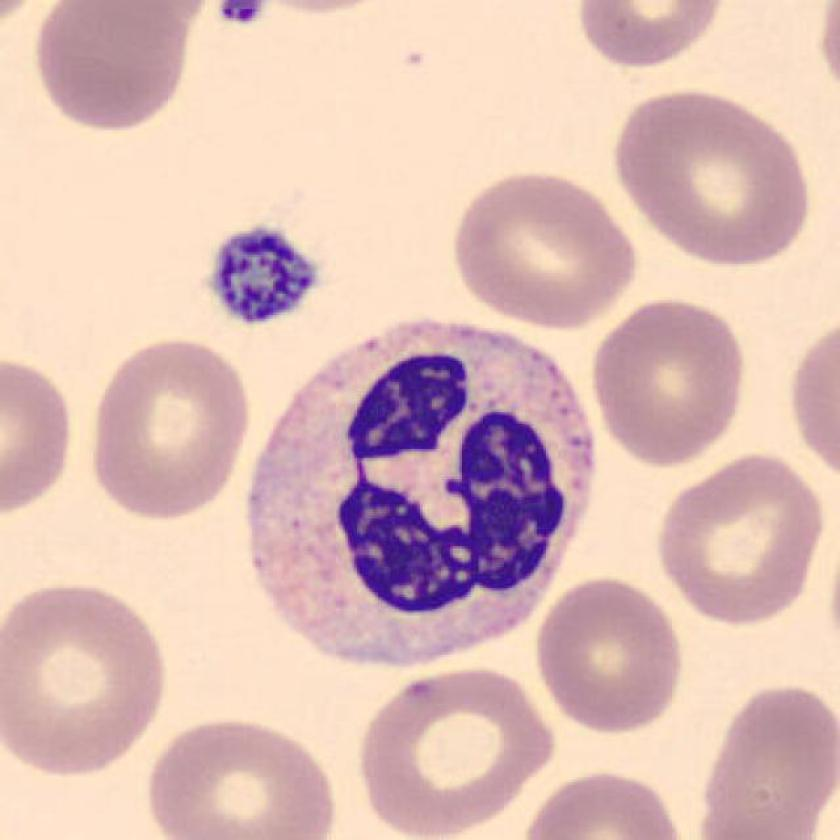neutrophil: (252, 320, 594, 660)
